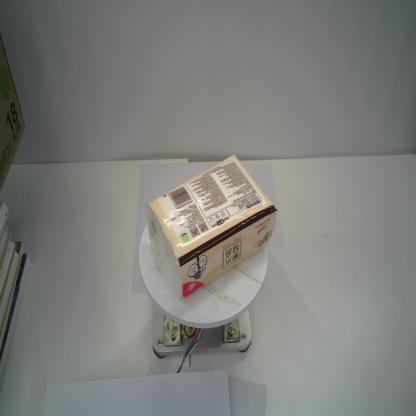Tissue: (147, 153, 277, 299)
